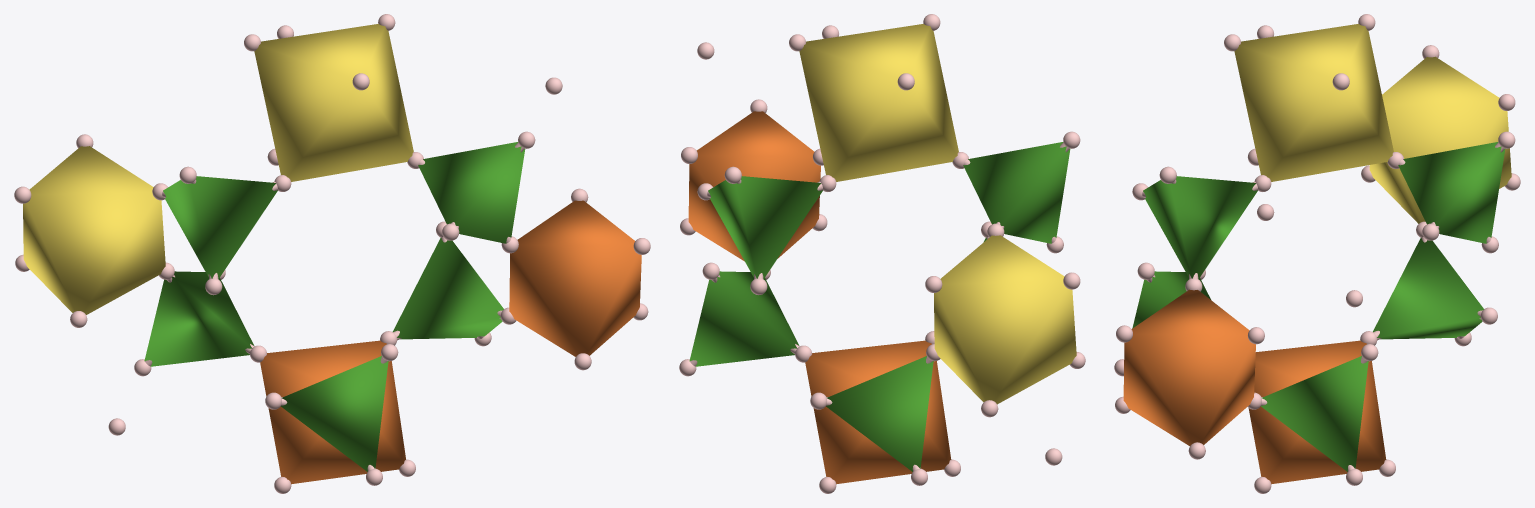
The model's file is Cr3InFeO12-trigonal-gnome0333a83d4d-p1.glb.
3 views of the same model, side by side, from view 1: azimuth 30°, elevation 25°; view 2: azimuth 150°, elevation 25°; view 3: azimuth 270°, elevation 25° (orthographic).
Visible parts, largest first — view 1: Cr3InFeO12-trigonal-gnome0333a83d4d-p1; view 2: Cr3InFeO12-trigonal-gnome0333a83d4d-p1; view 3: Cr3InFeO12-trigonal-gnome0333a83d4d-p1.
Boxes of the visible parts, left/top/right/bottom form: Cr3InFeO12-trigonal-gnome0333a83d4d-p1: left=14, top=14, right=650, bottom=493; Cr3InFeO12-trigonal-gnome0333a83d4d-p1: left=679, top=14, right=1085, bottom=493; Cr3InFeO12-trigonal-gnome0333a83d4d-p1: left=1114, top=14, right=1520, bottom=493.
Size of the model in its own units: 12.73 by 10.11 by 8.7.
